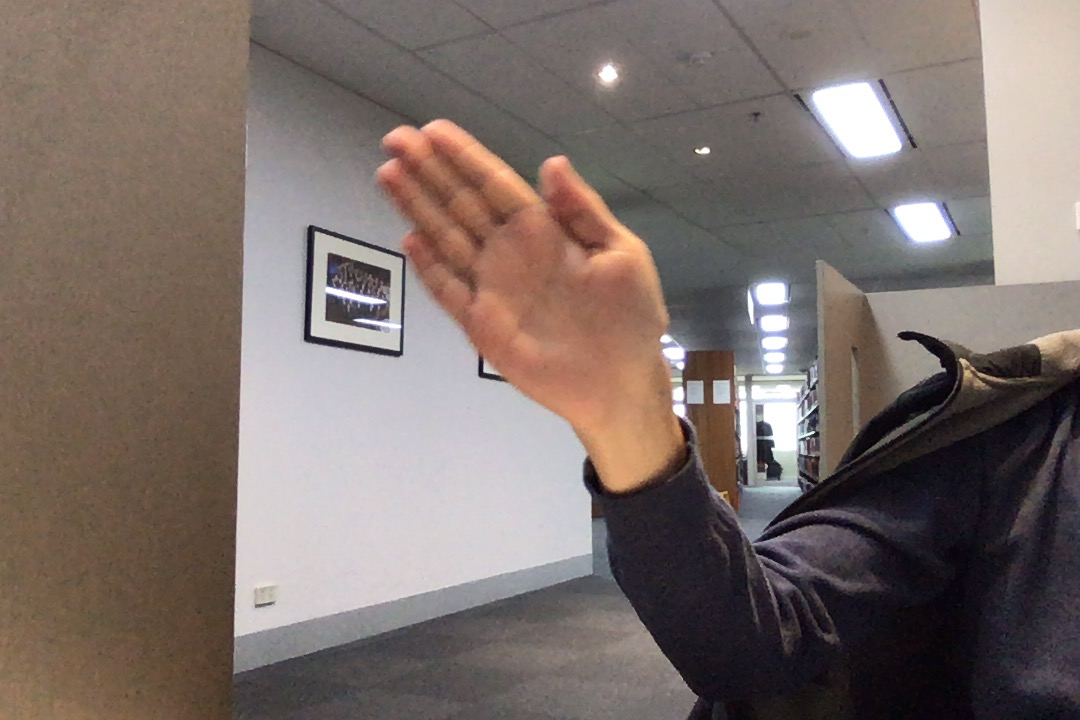palmhand: (361, 100, 680, 419)
